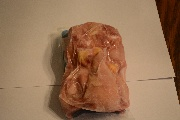chicken: (54, 23, 130, 118)
